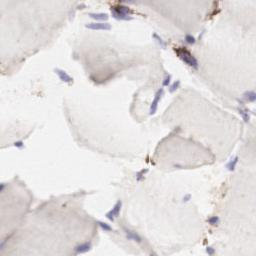nucleus: (54, 68, 74, 86), (105, 201, 122, 222), (151, 88, 164, 114), (152, 31, 167, 52), (237, 108, 256, 124), (112, 8, 133, 21), (182, 55, 198, 70), (85, 22, 112, 30), (225, 156, 239, 171), (86, 12, 109, 20), (75, 243, 92, 252), (170, 79, 182, 91), (137, 168, 148, 181), (98, 221, 112, 231), (243, 91, 256, 101), (126, 232, 139, 241), (74, 2, 87, 11), (14, 140, 25, 150), (185, 34, 195, 43), (206, 246, 215, 255), (162, 76, 171, 84), (209, 217, 219, 222), (185, 194, 192, 201), (1, 184, 5, 191)
positive_cell: (109, 1, 148, 20), (171, 45, 198, 70), (206, 213, 221, 227)
